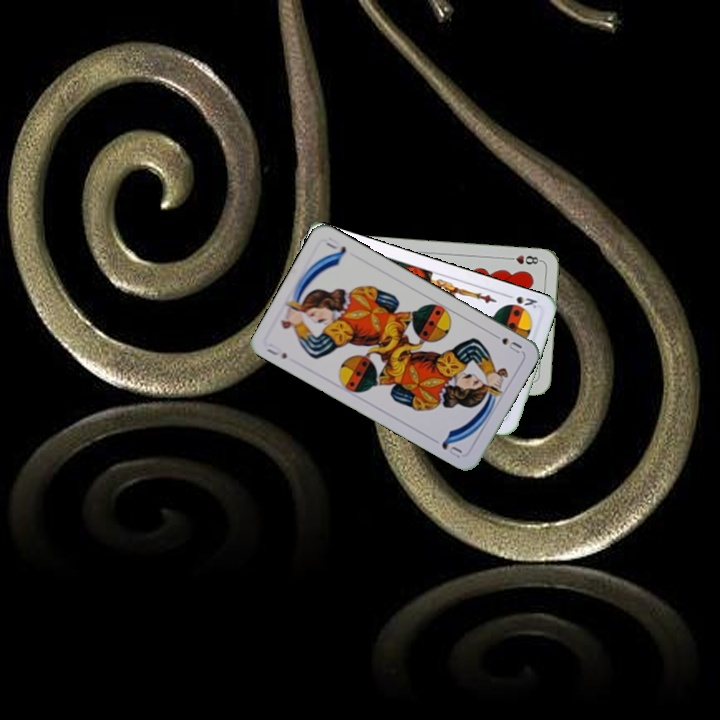H8: (503, 251, 544, 267)
SK: (501, 290, 540, 311)
SU: (487, 329, 525, 356), (262, 339, 290, 361)
